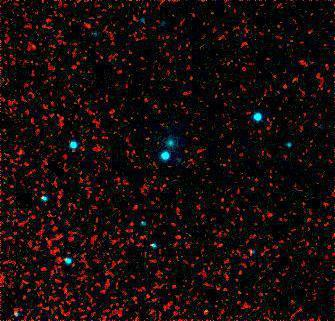star: (188, 296, 218, 321)
